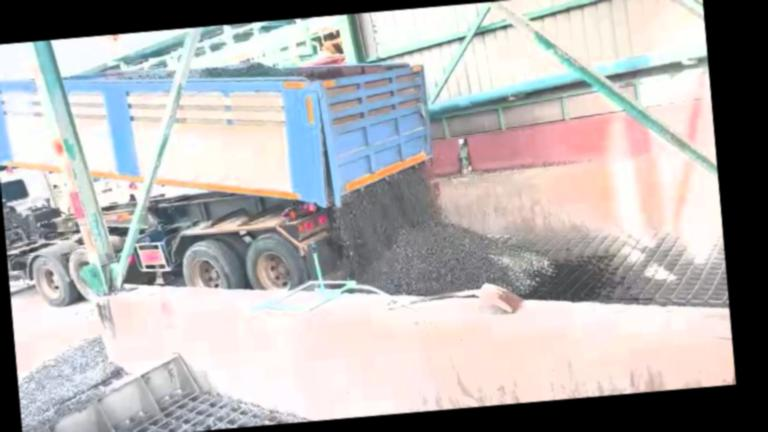gravel: (336, 166, 554, 294), (19, 337, 124, 432), (189, 61, 295, 79), (105, 70, 175, 80)
